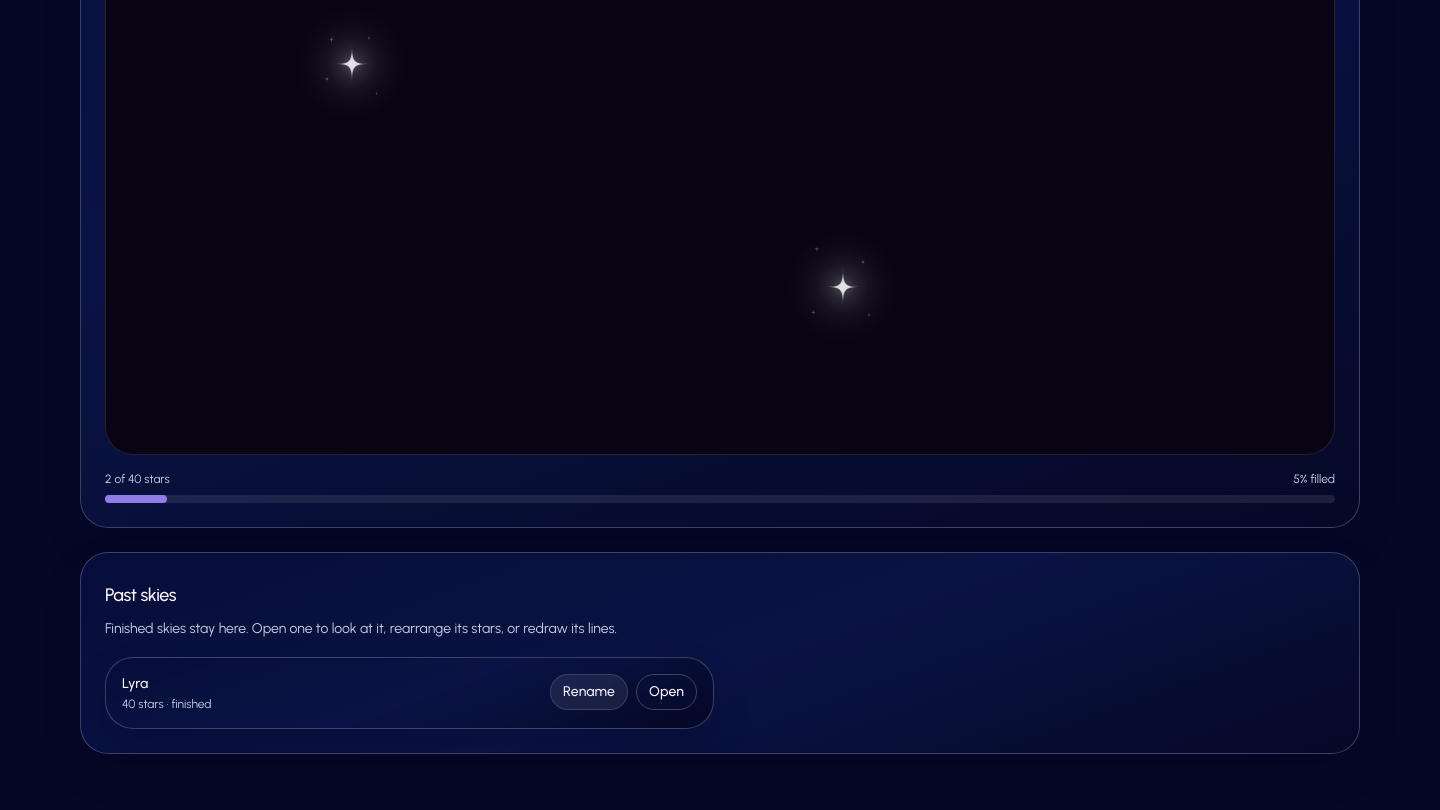
Test: the Stars page › opens a past sky in place
(page scrolled)
Click the button "Open".
click(666, 692)  # box [636, 674, 697, 710]
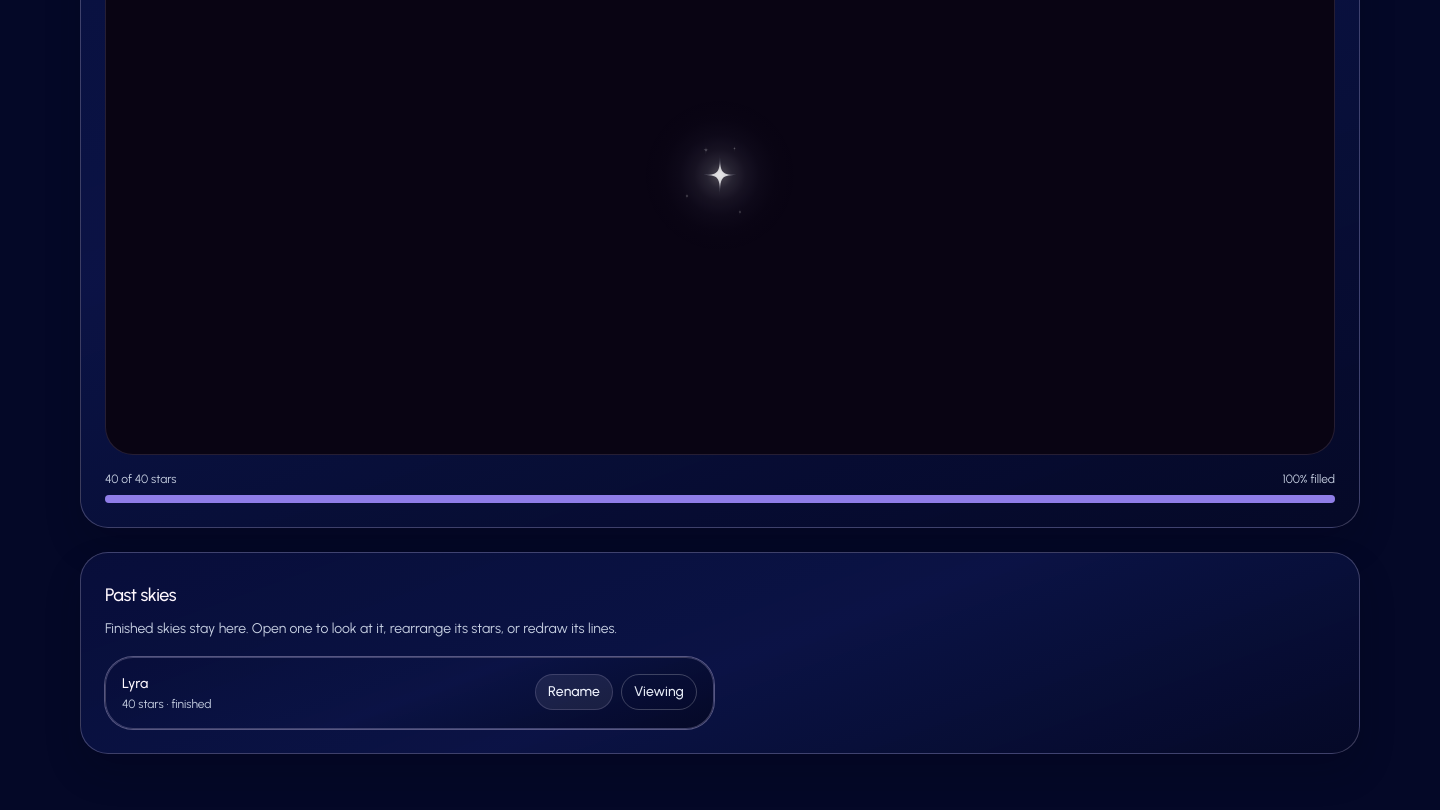
Result: the button "Viewing" is disabled at [621, 674, 697, 710]
